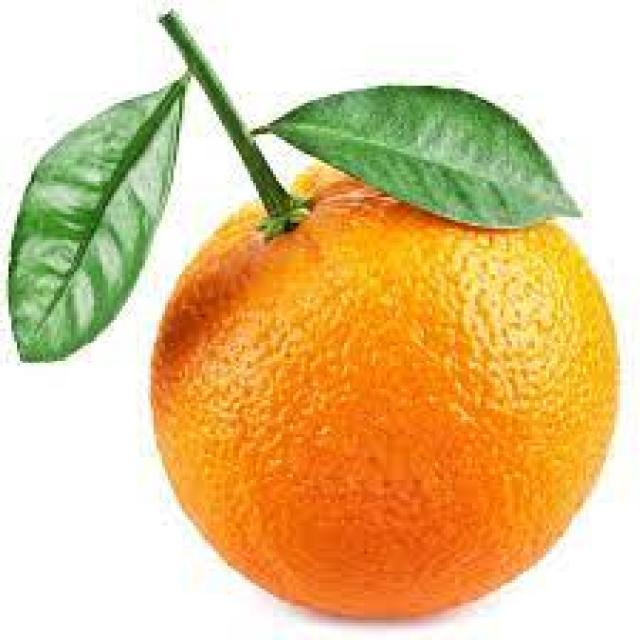Orange: (148, 159, 621, 621)
